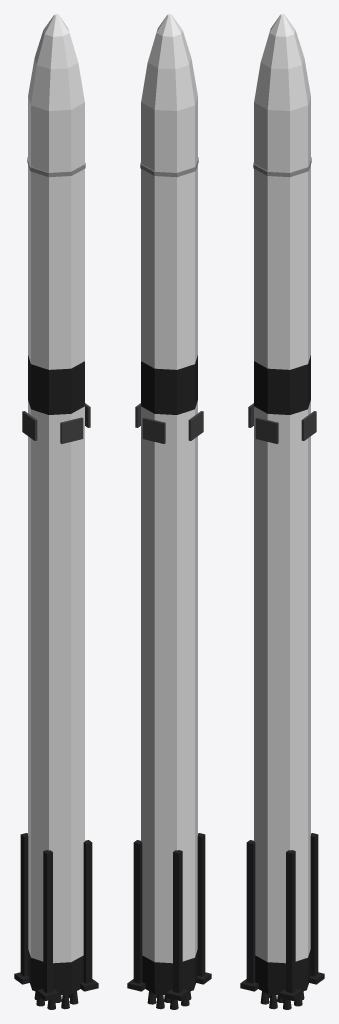
The model's file is falcon-blender.fbx.
3 views of the same model, side by side, from view 1: azimuth 30°, elevation 25°; view 2: azimuth 150°, elevation 25°; view 3: azimuth 330°, elevation 25° (orthographic).
Visible parts, largest first — view 1: Falcon; view 2: Falcon; view 3: Falcon.
Boxes of the visible parts, left/top/right/bottom form: Falcon: left=14, top=14, right=98, bottom=1009; Falcon: left=127, top=14, right=211, bottom=1009; Falcon: left=240, top=14, right=324, bottom=1009.
Bounding box in the file's own units: 142 × 2400 × 142.
Materials: 1 (1 with a texture image).
